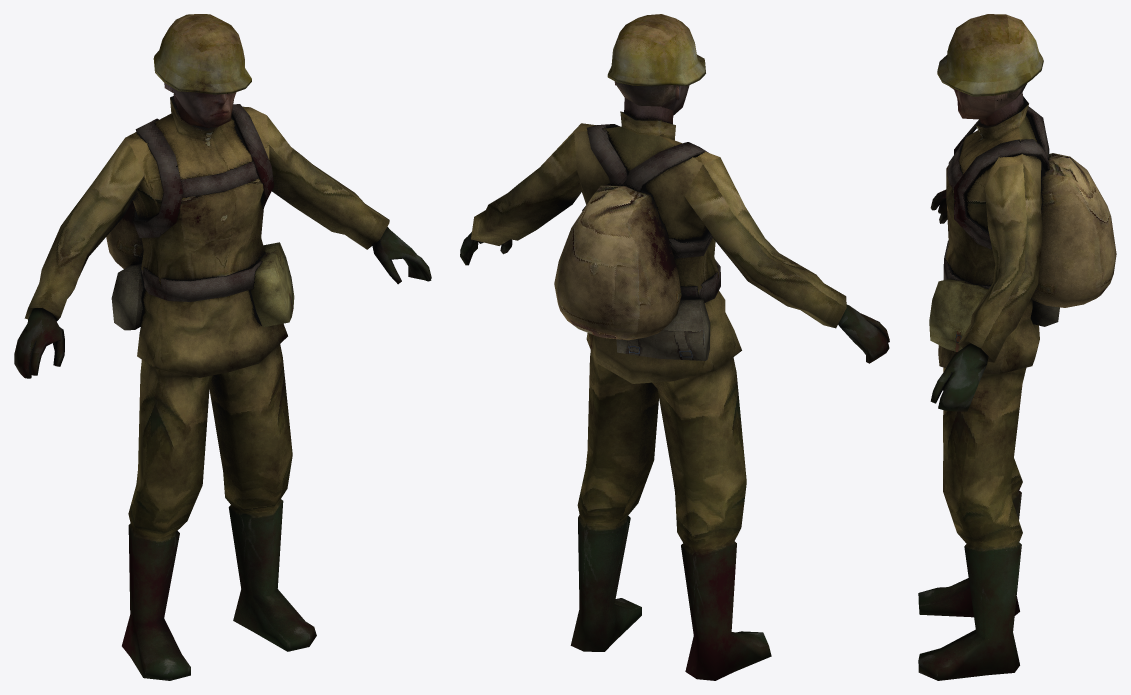
File: ww2_soviet_soldier_original.glb
The picture shows the model from 3 angles, left to right: view 1: azimuth 30°, elevation 25°; view 2: azimuth 150°, elevation 25°; view 3: azimuth 270°, elevation 25°; orthographic projection. The views are drawn at different scales.
Parts seen in each view (by area): view 1: final; view 2: final; view 3: final.
Boxes of the visible parts, x1,y1,x2,y2 form: final: (14,14,431,680); final: (460,14,889,680); final: (918,14,1116,680).
Size of the model in its own units: 1.27 by 1.86 by 0.5389.
Materials: 1 (1 with a texture image).
